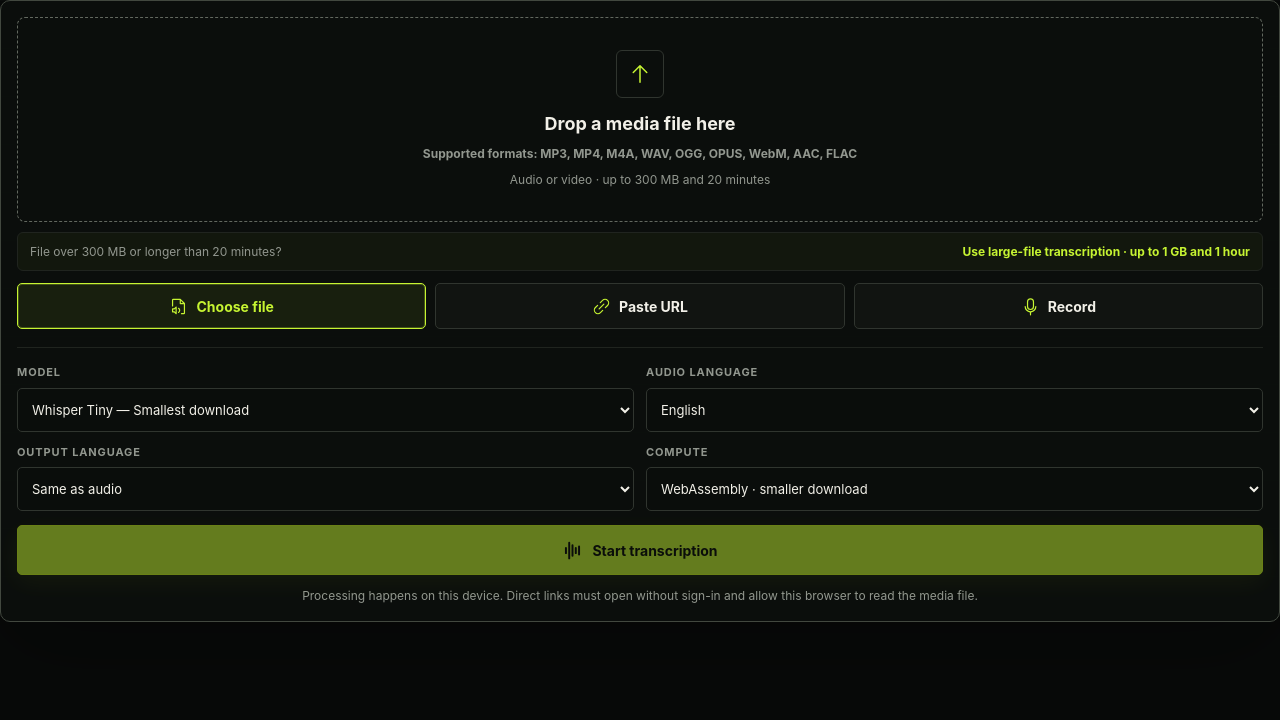
it: TranscriptionWorkspace › 在上方主区域切换 URL 与录音操作
The width and height of the screenshot is (1280, 720).
Click the button "Paste URL": (640, 306) [435, 283, 845, 329]
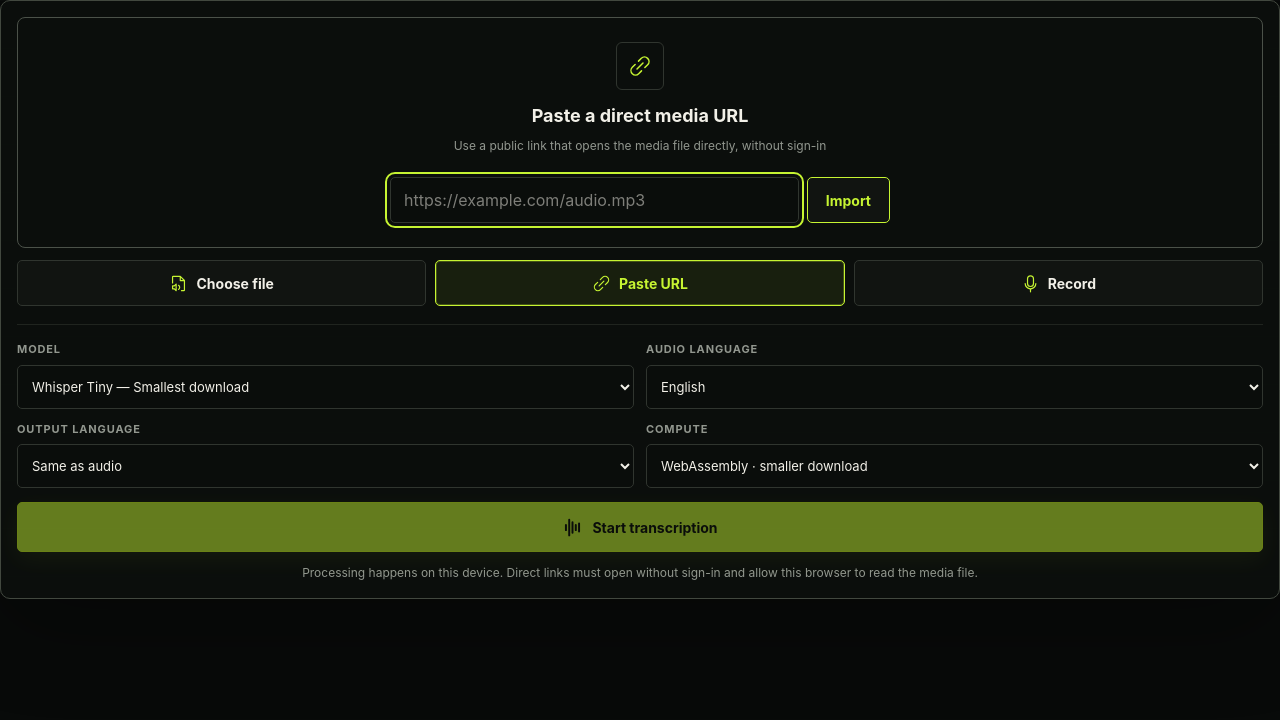
Result: the field named "Paste a direct media URL" is shown at [390, 177, 799, 223]
Result: the button "Drop a media file here" is gone
Click the button "Record": (1058, 283) [854, 260, 1263, 306]
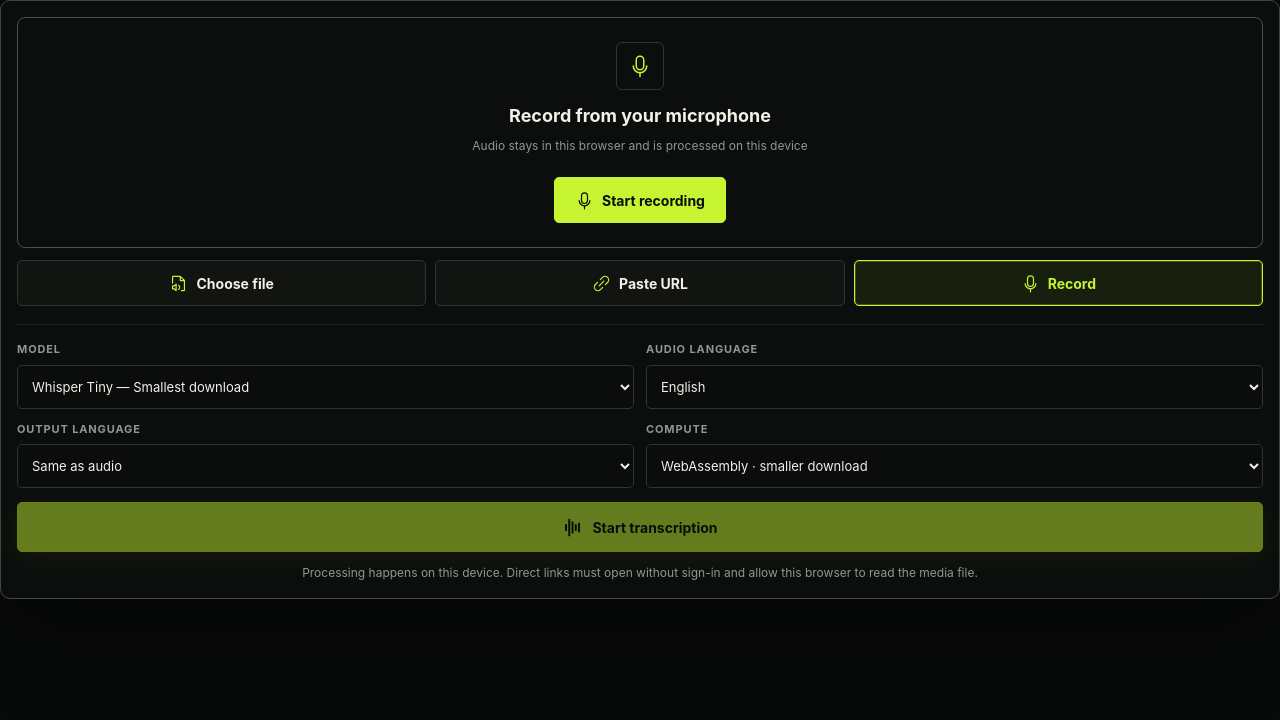
Result: the button "Start recording" is shown at [554, 177, 726, 223]
Result: the text "Paste a direct media URL" is gone
